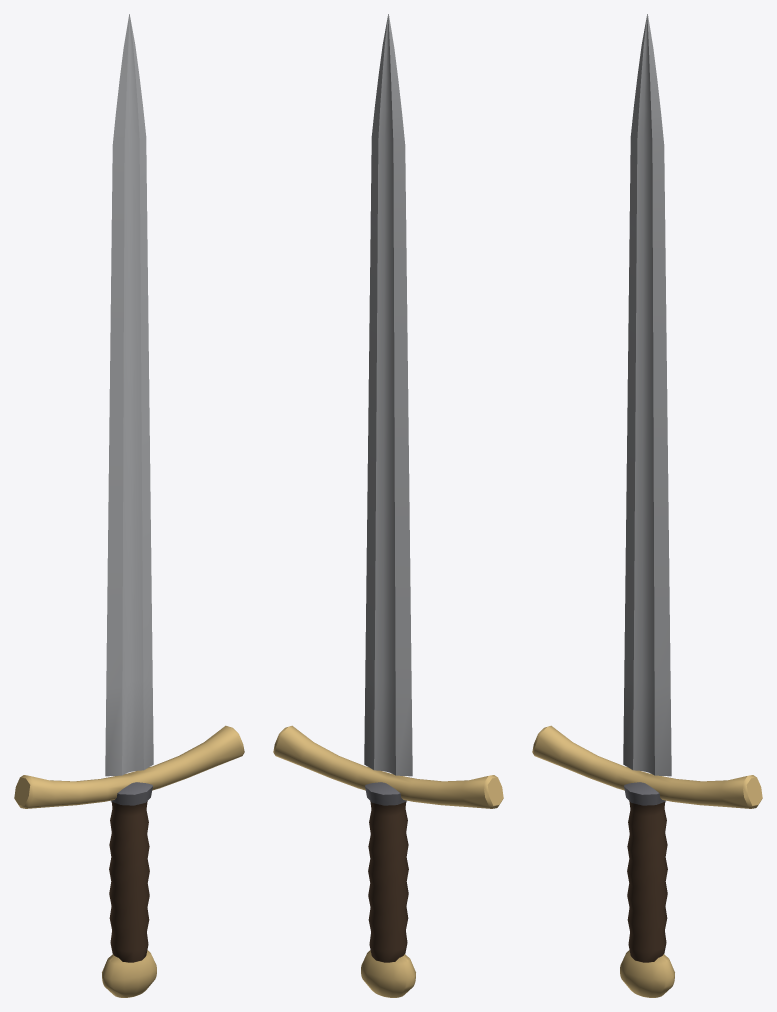
Rendered from sword.glb.
3 renders of one model, left to right at view 1: azimuth 30°, elevation 25°; view 2: azimuth 150°, elevation 25°; view 3: azimuth 330°, elevation 25°, orthographic.
Parts seen in each view (by area): view 1: sword; view 2: sword; view 3: sword.
Boxes of the visible parts, x1,y1,x2,y2 form: sword: (14, 14, 244, 997); sword: (273, 14, 503, 997); sword: (532, 14, 762, 997).
Bounding box in the file's own units: 0.2377 × 1.01 × 0.0418.
